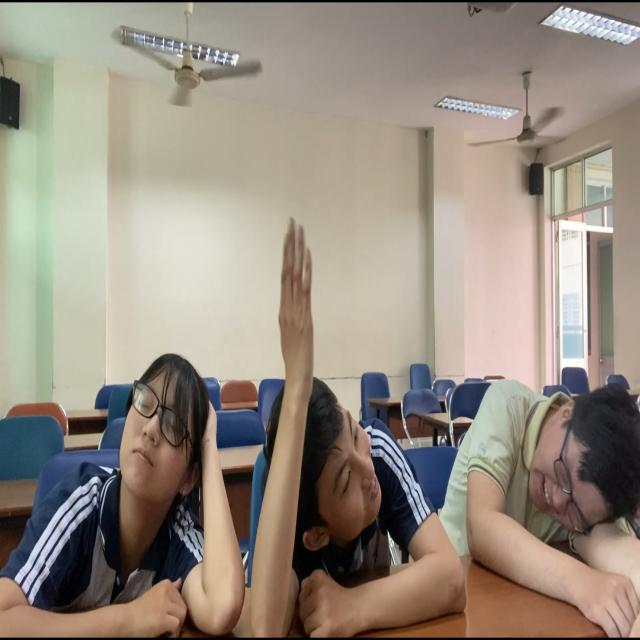raise_hand: (253, 218, 391, 640)
sleep: (1, 341, 250, 640), (451, 368, 640, 640)
